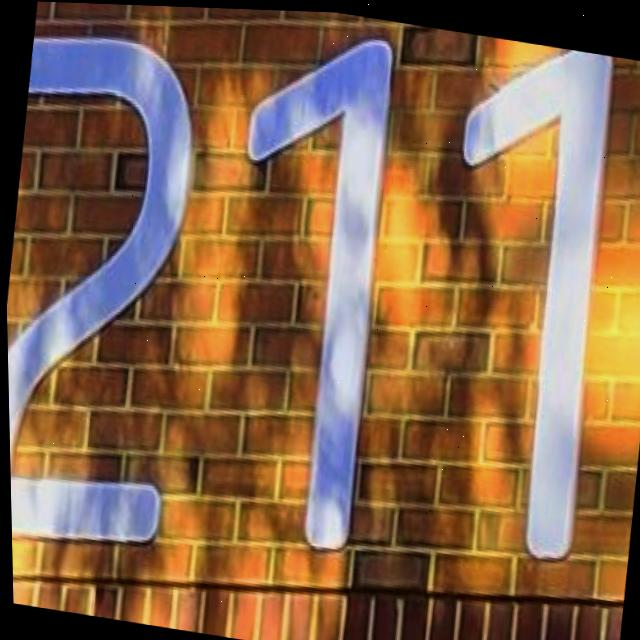character: (403, 30, 636, 574), (0, 15, 225, 568), (192, 10, 417, 562)
